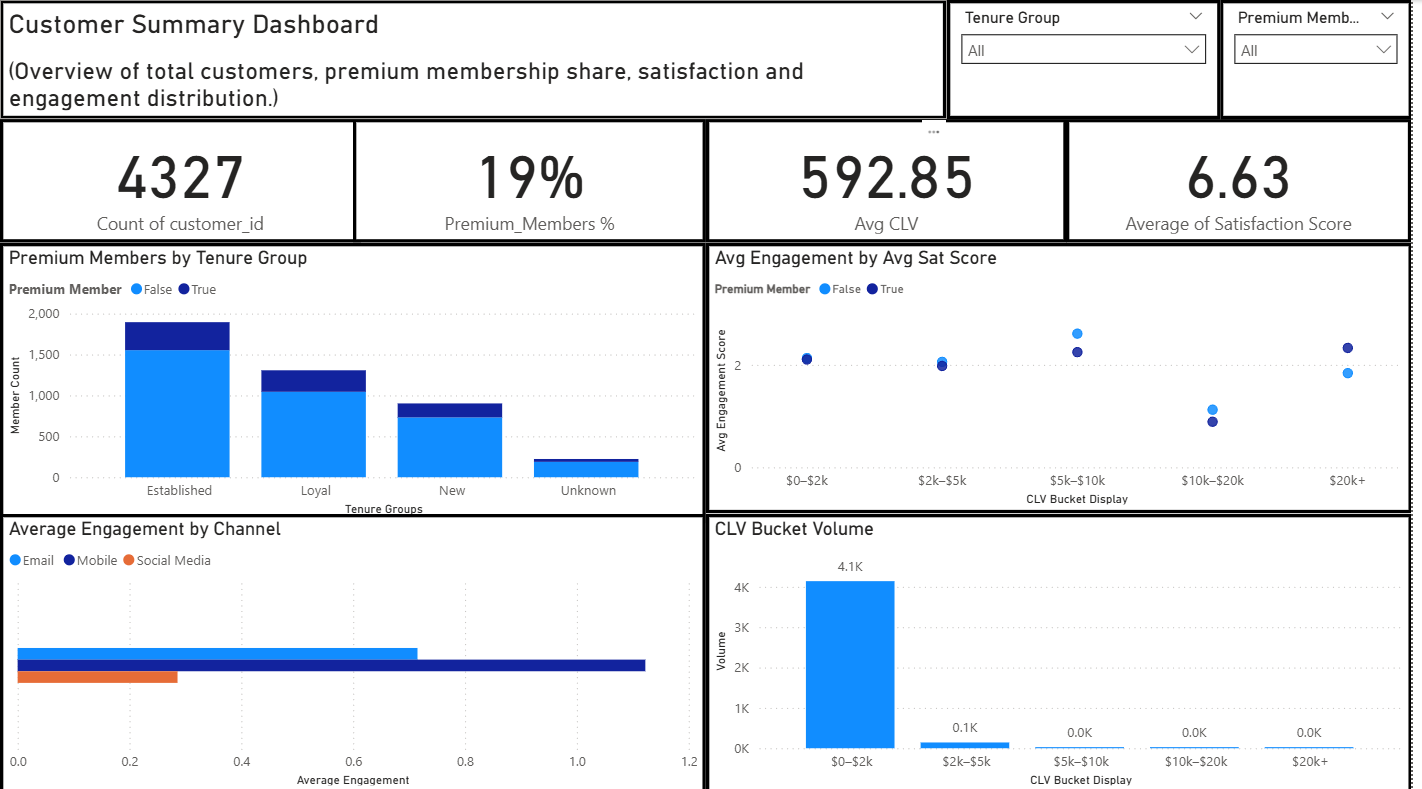

Layout of this report page (visuals, bound fields, positions):
{"tool":"powerbi","page":{"name":"Customer Overview","canvas":[1280,720],"ordinal":0},"visuals":[{"type":"card","fields":{"Values":["CountNonNull(DimCustomer.customer_id)"]},"box":[0,108,327,112],"z":0},{"type":"card","fields":{"Values":["Measures_Table.Premium_Members %"]},"box":[320,108,320,112],"z":1000},{"type":"card","fields":{"Values":["Measures_Table.Avg CLV"]},"box":[640,108,327,112],"z":2000},{"type":"card","fields":{"Values":["Avg(F_public_customer_satisfaction.Satisfaction Score)"]},"box":[967,108,313,112],"z":3000},{"type":"columnChart","title":"Premium Members by Tenure Group","fields":{"Category":["public core_profile.tenure_group"],"Y":["CountNonNull(public core_profile.customer_id)"],"Series":["public core_profile.premium_member"]},"box":[0,220.5,640.5,254.4],"z":4000},{"type":"clusteredBarChart","title":"Average Engagement by Channel","fields":{"Y":["Measures_Table.Avg Email Engagement","Measures_Table.Avg Mobile Engagement","Measures_Table.Avg Social Engagement"]},"box":[0,465.9,640.5,254.4],"z":5000},{"type":"scatterChart","title":"Avg Engagement by Avg Sat Score","fields":{"Series":["DimCustomer.premium_member"],"Y":["Measures_Table.Avg Engagement Score"],"X":["DimCustomer.CLV Bucket Display"]},"box":[640.5,220.5,639.5,245.4],"z":6000},{"type":"columnChart","title":"CLV Bucket Volume","fields":{"Y":["Count(public customer_value.customer_id)"],"Category":["DimCustomer.CLV Bucket Display"]},"box":[640.5,465.9,639.5,254.4],"z":7000},{"type":"textbox","box":[0,0,858.3,108.3],"z":8000},{"type":"slicer","fields":{"Values":["DimCustomer.premium_member"]},"box":[1106,0,174,108.3],"z":9000},{"type":"slicer","fields":{"Values":["DimCustomer.tenure group"]},"box":[858.3,0,247.7,108.3],"z":10000}]}

Visuals, with their boxes in screenshot pixels (x1, y1, x2, y2), scaled from the page's 1280x720 canvas onto the 1422x789 screenshot:
card - CountNonNull(DimCustomer.customer_id): x1=0, y1=118, x2=363, y2=241
card - Measures_Table.Premium_Members %: x1=356, y1=118, x2=711, y2=241
card - Measures_Table.Avg CLV: x1=711, y1=118, x2=1074, y2=241
card - Avg(F_public_customer_satisfaction.Satisfaction Score): x1=1074, y1=118, x2=1421, y2=241
"Premium Members by Tenure Group" columnChart: x1=0, y1=242, x2=712, y2=520
"Average Engagement by Channel" clusteredBarChart: x1=0, y1=511, x2=712, y2=788
"Avg Engagement by Avg Sat Score" scatterChart: x1=712, y1=242, x2=1421, y2=511
"CLV Bucket Volume" columnChart: x1=712, y1=511, x2=1421, y2=788
textbox: x1=0, y1=0, x2=954, y2=119
slicer - DimCustomer.premium_member: x1=1229, y1=0, x2=1421, y2=119
slicer - DimCustomer.tenure group: x1=954, y1=0, x2=1229, y2=119
